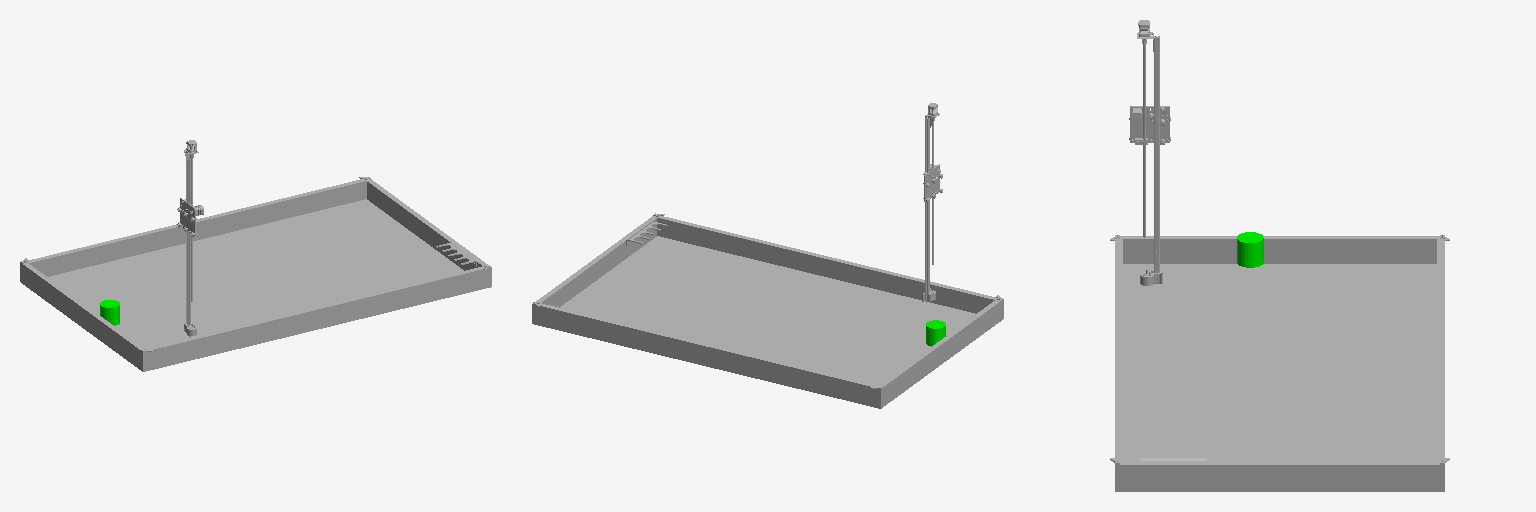
URDF robot description (xbot):
<?xml version="1.0"?>

<robot
  name="xbot">
  <link name="world"/>
  <joint name="base_joint" type="fixed">
    <parent link="world"/>
    <child link="link_1"/>
    <origin rpy="0 0 0" xyz="0.0 0.0 0.0"/>
  </joint>
  <link
    name="link_1">
    <inertial>
      <origin
        xyz="1.00198620157929 0.609175706788616 0.0292431619584773"
        rpy="0 0 0" />
      <mass
        value="43.4676318910242" />
      <inertia
        ixx="8.10475008921581"
        ixy="-0.000249588131759327"
        ixz="5.43020685210224E-05"
        iyy="18.9343407108612"
        iyz="-1.69094685950676E-05"
        izz="26.9425186759554" />
    </inertial>
    <visual>
      <origin
        xyz="0 0 0"
        rpy="0 0 0" />
      <geometry>
        <mesh
          filename="package://paket_ppp/meshes/link_1.STL" />
      </geometry>
      <material
        name="">
        <color
          rgba="0.752941176470588 0.752941176470588 0.752941176470588 1" />
      </material>
    </visual>
    <collision>
      <origin
        xyz="0 0 0"
        rpy="0 0 0" />
      <geometry>
        <mesh
          filename="package://paket_ppp/meshes/link_1.STL" />
      </geometry>
    </collision>
  </link>
  <link
    name="link_2">
    <inertial>
      <origin
        xyz="0.236150009919161 0.609999999992692 0.406575808145582"
        rpy="0 0 0" />
      <mass
        value="1.51082085685831" />
      <inertia
        ixx="0.0697296039888597"
        ixy="-1.51195943056285E-09"
        ixz="-0.000104503561819603"
        iyy="0.0111134065054738"
        iyz="-1.32873939131292E-09"
        izz="0.0623776617961707" />
    </inertial>
    <visual>
      <origin
        xyz="0 0 0"
        rpy="0 0 0" />
      <geometry>
        <mesh
          filename="package://paket_ppp/meshes/link_2.STL" />
      </geometry>
      <material
        name="">
        <color
          rgba="0.752941176470588 0.752941176470588 0.752941176470588 1" />
      </material>
    </visual>
    <collision>
      <origin
        xyz="0 0 0"
        rpy="0 0 0" />
      <geometry>
        <mesh
          filename="package://paket_ppp/meshes/link_2.STL" />
      </geometry>
    </collision>
  </link>
  <joint
    name="joint_1"
    type="prismatic">
    <origin
      xyz="0.05 0 0.102"
      rpy="0 0 0" />
    <parent
      link="link_1" />
    <child
      link="link_2" />
    <axis
      xyz="1 0 0" />
    <limit
      lower="0"
      upper="1.55"
      effort="0"
      velocity="0" />
  </joint>
  <link
    name="link_3">
    <inertial>
      <origin
        xyz="0.0112189791275465 0.060599104578761 -0.0583148463231686"
        rpy="0 0 0" />
      <mass
        value="0.255847911244318" />
      <inertia
        ixx="0.000435674548808046"
        ixy="7.96825029359971E-10"
        ixz="1.76478749755619E-07"
        iyy="0.000235214971456426"
        iyz="-5.06984239675163E-07"
        izz="0.000236110679414095" />
    </inertial>
    <visual>
      <origin
        xyz="0 0 0"
        rpy="0 0 0" />
      <geometry>
        <mesh
          filename="package://paket_ppp/meshes/link_3.STL" />
      </geometry>
      <material
        name="">
        <color
          rgba="0.752941176470588 0.752941176470588 0.752941176470588 1" />
      </material>
    </visual>
    <collision>
      <origin
        xyz="0 0 0"
        rpy="0 0 0" />
      <geometry>
        <mesh
          filename="package://paket_ppp/meshes/link_3.STL" />
      </geometry>
    </collision>
  </link>
  <joint
    name="joint_2"
    type="prismatic">
    <origin
      xyz="0.2815 0.055 0.68833"
      rpy="0 0 0" />
    <parent
      link="link_2" />
    <child
      link="link_3" />
    <axis
      xyz="0 1 0" />
    <limit
      lower="0"
      upper="0.96"
      effort="0"
      velocity="0" />
  </joint>
  <link
    name="link_4">
    <inertial>
      <origin
        xyz="-0.0127275235400623 -0.0305805506555025 -0.401269048621174"
        rpy="0 0 0" />
      <mass
        value="0.37880498166476" />
      <inertia
        ixx="0.0158516273952885"
        ixy="3.18338785791666E-06"
        ixz="7.95550928858643E-07"
        iyy="0.0158397711055371"
        iyz="5.29669102793283E-06"
        izz="7.33037209800267E-05" />
    </inertial>
    <visual>
      <origin
        xyz="0 0 0"
        rpy="0 0 0" />
      <geometry>
        <mesh
          filename="package://paket_ppp/meshes/link_4.STL" />
      </geometry>
      <material
        name="">
        <color
          rgba="0.752941176470588 0.752941176470588 0.752941176470588 1" />
      </material>
    </visual>
    <collision>
      <origin
        xyz="0 0 0"
        rpy="0 0 0" />
      <geometry>
        <mesh
          filename="package://paket_ppp/meshes/link_4.STL" />
      </geometry>
    </collision>
  </link>
  <joint
    name="joint_3"
    type="prismatic">
    <origin
      xyz="0.026501 0.10817 0.2945"
      rpy="0 0 0" />
    <parent
      link="link_3" />
    <child
      link="link_4" />
    <axis
      xyz="0 0 1" />
    <limit
      lower="0"
      upper="0.3"
      effort="0"
      velocity="0" />
  </joint>
  <link
    name="camera">
    <inertial>
      <origin
        xyz="9.65338919911574E-14 -8.97643070985055E-13 -0.00569801980221664"
        rpy="0 0 0" />
      <mass
        value="0.00071392693052828" />
      <inertia
        ixx="1.1610281032167E-08"
        ixy="-8.05558671411072E-25"
        ixz="7.50946706517619E-25"
        iyy="1.1610281032167E-08"
        iyz="3.73271017408366E-23"
        izz="6.81499803857008E-09" />
    </inertial>
    <visual>
      <origin
        xyz="0 0 0"
        rpy="0 0 0" />
      <geometry>
        <mesh
          filename="package://paket_ppp/meshes/camera.STL" />
      </geometry>
      <material
        name="">
        <color
          rgba="1 1 1 1" />
      </material>
    </visual>
    <collision>
      <origin
        xyz="0 0 0"
        rpy="0 0 0" />
      <geometry>
        <mesh
          filename="package://paket_ppp/meshes/camera.STL" />
      </geometry>
    </collision>
  </link>
  <joint
    name="joint_4"
    type="continuous">
    <origin
      xyz="0.003 0.0092663 -0.99"
      rpy="0 0 0" />
    <parent
      link="link_4" />
    <child
      link="camera" />
    <axis
      xyz="0 0 -1" />
  </joint>
  
  
  
  
  <ros2_control name="GazeboSystem" type="system">
    <hardware>
      <plugin>gazebo_ros2_control/GazeboSystem</plugin>
    </hardware>
    <joint name="joint_1">
      <command_interface name="position">
        <param name="min">{0.0}</param>
        <param name="max">{1.55}</param>
      </command_interface>
      <state_interface name="position"/>
      <state_interface name="velocity"/>
      <state_interface name="effort"/>
    </joint>
    <joint name="joint_2">
      <command_interface name="position">
        <param name="min">{0.0}</param>
        <param name="max">{0.96}</param>
      </command_interface>
      <state_interface name="position"/>
      <state_interface name="velocity"/>
      <state_interface name="effort"/>
    </joint>
    <joint name="joint_3">
      <command_interface name="position">
        <param name="min">{0.0}</param>
        <param name="max">{0.3}</param>
      </command_interface>
      <state_interface name="position"/>
      <state_interface name="velocity"/>
      <state_interface name="effort"/>
    </joint>
    
  </ros2_control>
  
  <gazebo>
    <plugin filename="libgazebo_ros2_control.so" name="gazebo_ros2_control">
      <parameters>[local-path]/ws_ppp/install/paket_ppp/share/paket_ppp/config/control_ppp.yaml</parameters>
    </plugin>
  </gazebo>

  <!-- Camera Sensor -->
  <gazebo reference="camera">
    <sensor type="camera" name="camera_sensor">
      <pose> 0 0 0 0 0 0 </pose>
      <visualize>true</visualize>
      <update_rate>10</update_rate>
      <camera>
        <horizontal_fov>1.089</horizontal_fov>
        <image>
          <width>640</width>
          <height>480</height>
          <format>R8G8B8</format>
        </image>
        <clip>
          <near>0.1</near>
          <far>100.0</far>
        </clip>
      </camera>
      <plugin name="camera_controller" filename="libgazebo_ros_camera.so">
        <frame_name>camera</frame_name>
      </plugin>
    </sensor>
  </gazebo>

  

  
 <gazebo reference="link_1">
    <material>Gazebo/Orange</material>
  </gazebo>
  
  <gazebo reference="link_2">
    <material>Gazebo/Orange</material>
  </gazebo>
  <gazebo reference="link_3">
    <material>Gazebo/Orange</material>
  </gazebo>
  <gazebo reference="link_4">
    <material>Gazebo/Orange</material>
  </gazebo>
  
  <!-- Lidar Linki -->
  <link name="lidar_link">
    <inertial>
      <origin xyz="0 0 0" rpy="0 0 0" />
      <mass value="0.1" />
      <inertia ixx="1e-5" ixy="0" ixz="0" iyy="1e-5" iyz="0" izz="1e-5" />
    </inertial>
    <visual>
      <origin xyz="0 0 0" rpy="0 0 0" />
      <geometry>
        <cylinder radius="0.05" length="0.1" />
      </geometry>
      <material>
        <color rgba="0.0 1.0 0.0 1.0" />
      </material>
    </visual>
    <collision>
      <origin xyz="0 0 0" rpy="0 0 0" />
      <geometry>
        <cylinder radius="0.05" length="0.1" />
      </geometry>
    </collision>
  </link>

  <!-- Lidar Eklemi -->
  <joint name="lidar_joint" type="fixed">
    <parent link="link_1" />
    <child link="lidar_link" />
    <origin xyz="0.1 0.5 0.1" rpy="0 0 0" />
  </joint>

  <gazebo reference="lidar_link">
    <sensor type="ray" name="lidar">
      <pose>0 0 0 0 0 0</pose>
      <visualize>true</visualize>
      <update_rate>10</update_rate>
      <ray>
        <scan>
          <horizontal>
            <samples>100</samples>
            <resolution>1</resolution>
            <min_angle>-1.57</min_angle>
            <max_angle>1.57</max_angle>
          </horizontal>
        </scan>
        <range>
          <min>0.1</min>
          <max>2.0</max>
        </range>
      </ray>
      <plugin name="scan" filename="libgazebo_ros_ray_sensor.so">
        <ros>
          <namespace>/xbot</namespace>
          <remapping>~/out:=scan</remapping>
        </ros>
        <output_type>sensor_msgs/LaserScan</output_type>
        <frame_name>lidar_link</frame_name>
      </plugin>
    </sensor>
  </gazebo>
 

</robot> 

--- What the picture shows (computed from the rendered views, not written in the file) ---
3 views of the same robot in one strip: view 1: azimuth 30°, elevation 25°; view 2: azimuth 150°, elevation 25°; view 3: azimuth 270°, elevation 25° (orthographic).
Robot: xbot — 7 links, 6 joints (1 continuous, 3 prismatic, 2 fixed); root link world; default pose: all joints at 0.
Visible links, largest first — view 1: link_1, link_4, link_3; view 2: link_1, link_4; view 3: link_1, link_4, link_3, lidar_link.
Link boxes in pixels (left/top/right/bottom): link_1: left=20, top=177, right=491, bottom=371; link_4: left=184, top=140, right=198, bottom=337; link_3: left=177, top=198, right=203, bottom=236; link_1: left=532, top=213, right=1003, bottom=408; link_4: left=922, top=103, right=939, bottom=301; link_1: left=1110, top=235, right=1449, bottom=491; link_4: left=1137, top=20, right=1162, bottom=285; link_3: left=1129, top=106, right=1170, bottom=144; lidar_link: left=1237, top=232, right=1263, bottom=267.
Size in the robot's own frame: 2 by 1.26 by 1.14 metres.
4 mesh visuals loaded from 5 distinct referenced files (4 binary STL); not drawn: 1 (reference not matched to a file when rendering).
